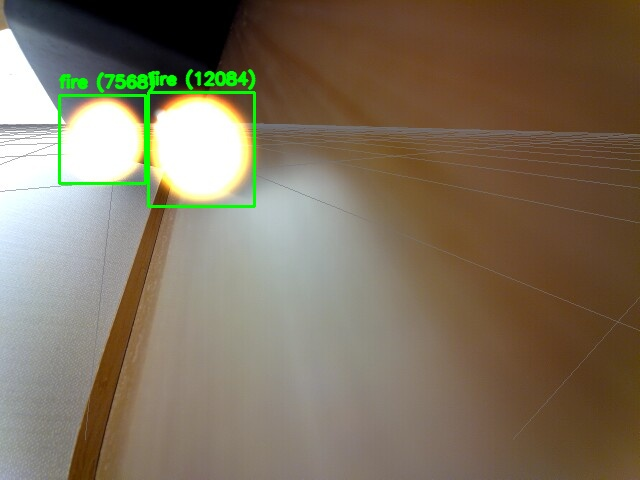fire: (148, 92, 254, 206), (59, 95, 145, 183)
